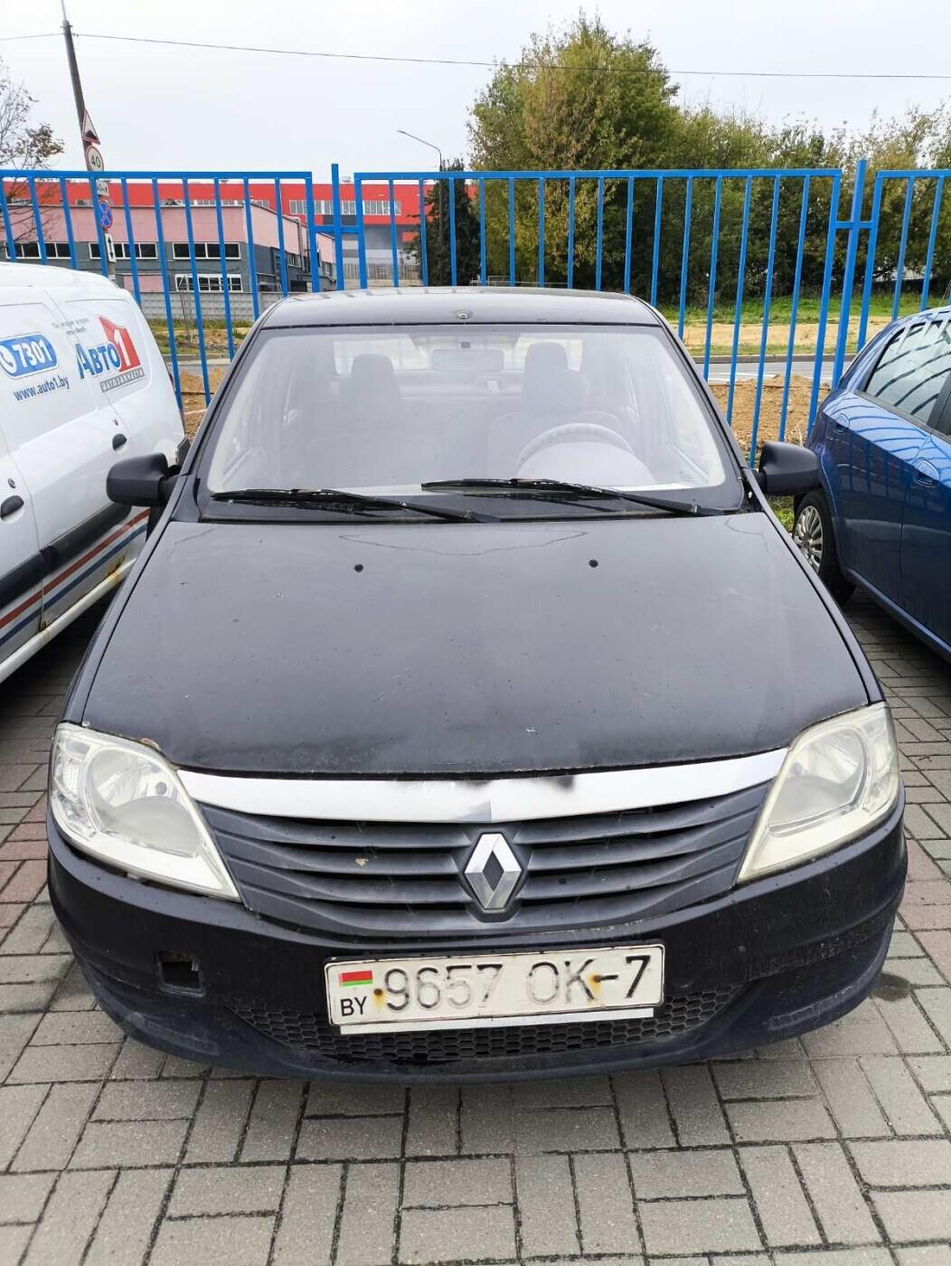Logan_2008-2015: (38, 275, 909, 1089)
